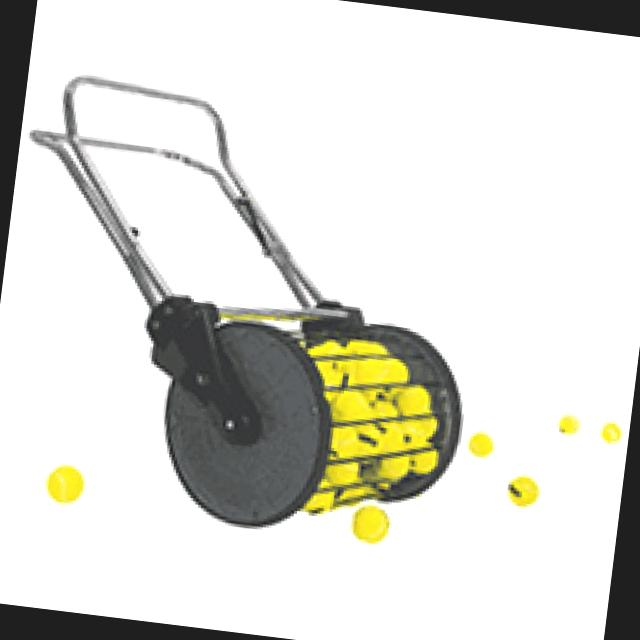Tennis Ball: (41, 461, 87, 506), (350, 505, 392, 547), (504, 473, 543, 513), (396, 386, 429, 415), (597, 417, 626, 447), (465, 433, 496, 461), (324, 461, 360, 485), (335, 390, 367, 417), (361, 415, 394, 441), (305, 480, 332, 511), (358, 361, 390, 386), (556, 409, 584, 436), (336, 431, 364, 456), (343, 484, 375, 505), (363, 390, 392, 413), (378, 457, 408, 479), (405, 418, 435, 440), (410, 449, 437, 473), (384, 358, 409, 383), (330, 425, 356, 449), (377, 429, 403, 452), (344, 359, 365, 386), (325, 368, 353, 386), (366, 406, 398, 420), (317, 356, 335, 380), (344, 339, 370, 355), (360, 437, 383, 455), (360, 342, 388, 356), (326, 390, 340, 418), (391, 419, 411, 437), (382, 384, 405, 399), (355, 424, 375, 441), (406, 438, 431, 451), (325, 341, 344, 355), (306, 345, 330, 355), (334, 357, 346, 369)
